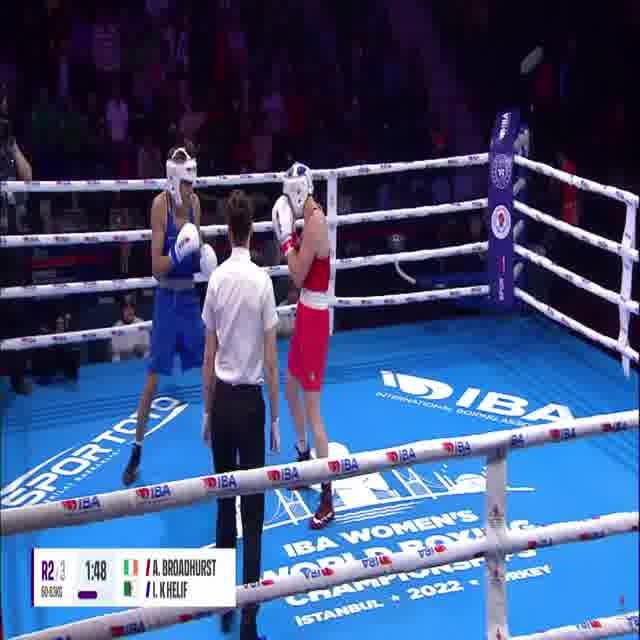blue-player: (123, 143, 227, 499)
red-player: (272, 162, 340, 531)
referee: (199, 183, 282, 640)
